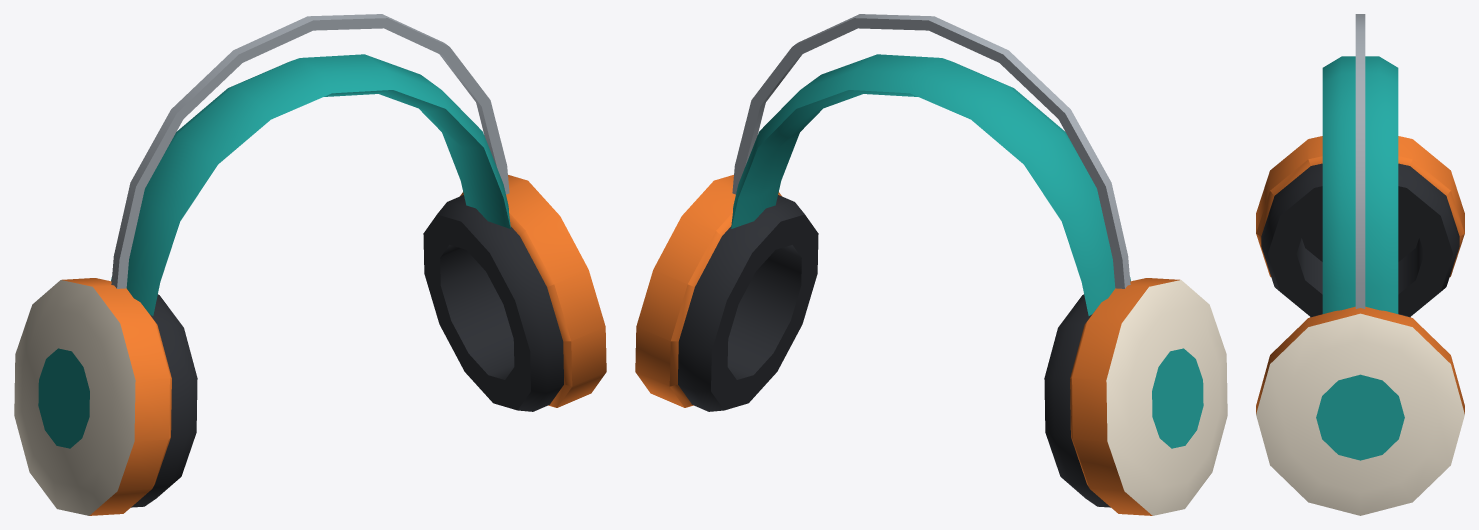
File: Auriculares2.fbx
3 renders of one model, left to right at view 1: azimuth 30°, elevation 25°; view 2: azimuth 150°, elevation 25°; view 3: azimuth 270°, elevation 25°, orthographic. The views are drawn at different scales.
Visible parts, largest first — view 1: Auriculares2; view 2: Auriculares2; view 3: Auriculares2.
Boxes of the visible parts, <box> form: Auriculares2: <box>14,14,606,515</box>; Auriculares2: <box>635,14,1227,515</box>; Auriculares2: <box>1256,14,1464,515</box>.
Size of the model in its own units: 1.79 by 1.45 by 0.72.
1 material, 1 textured.
